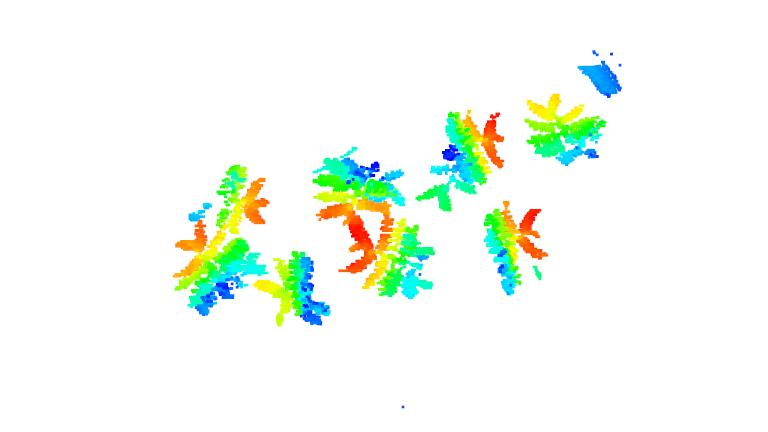chickpea: (412, 106, 509, 215), (172, 224, 265, 315), (310, 146, 408, 219), (346, 219, 434, 299), (482, 198, 549, 302), (253, 250, 332, 329), (187, 163, 274, 233), (524, 93, 607, 166)
